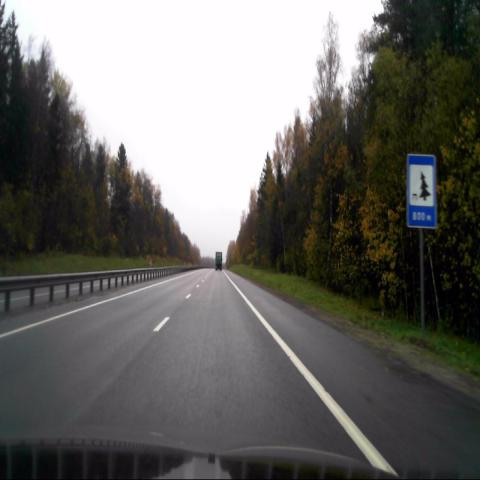7_11: (407, 154, 436, 226)
